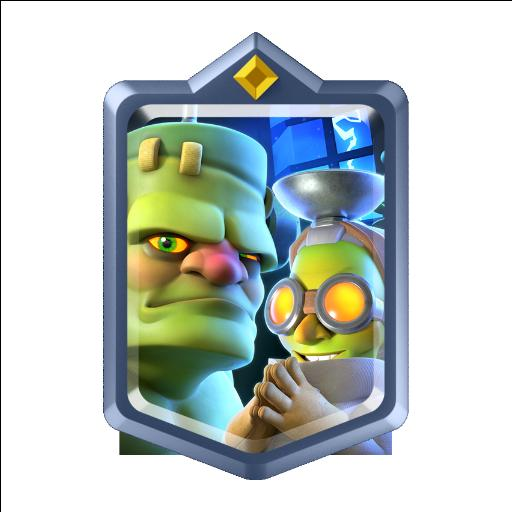goblinstein: (124, 100, 394, 424)
